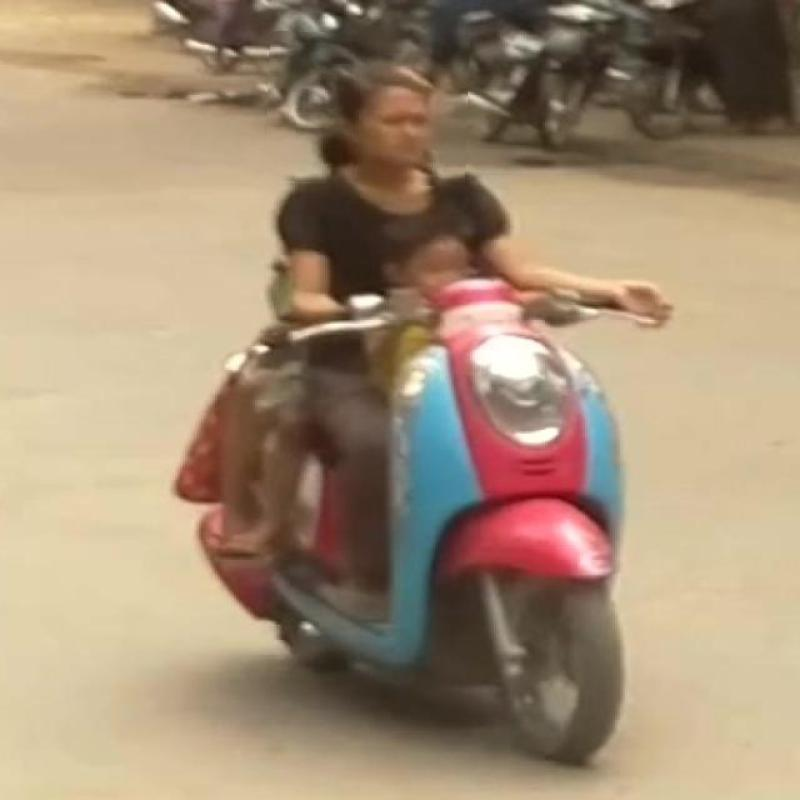nohelmet: (267, 33, 469, 186)
